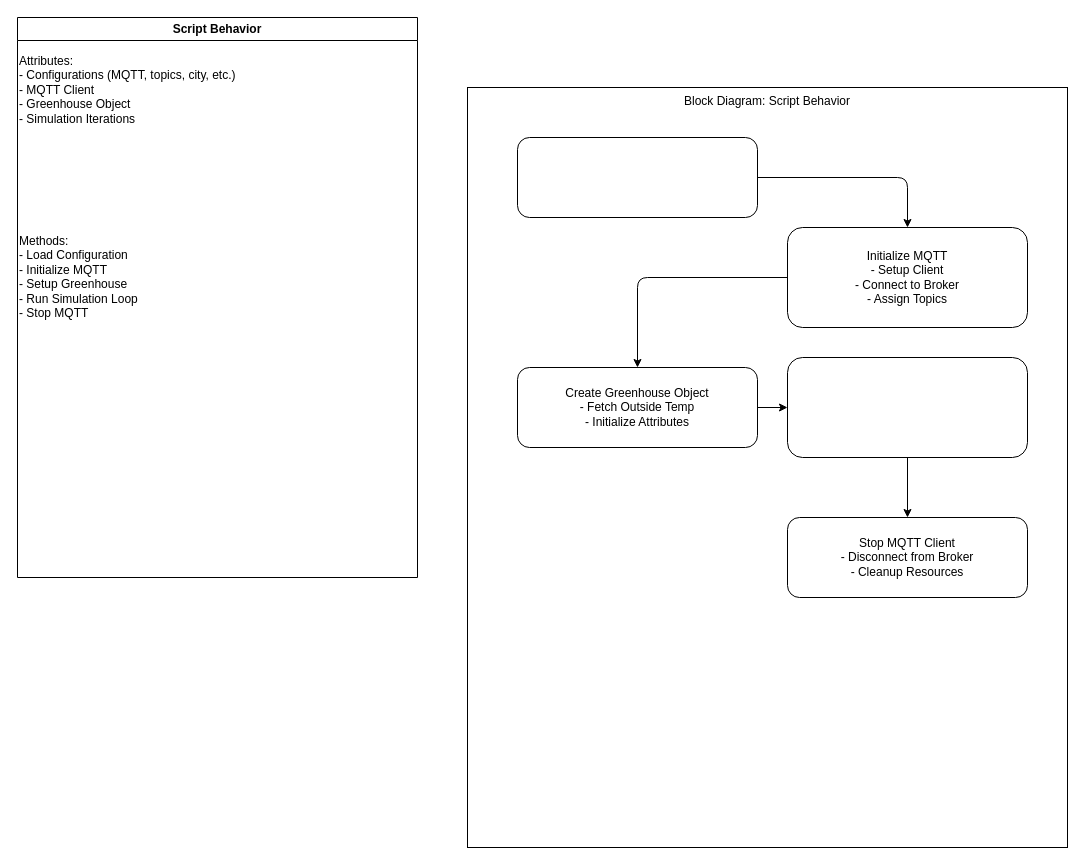
Some shapes in this 1085 by 865 pixel diagram are drawn without their labels. Here are the shapes that lost their labels. From the top down, the centre of each, then its label:
At pixel 637 177: "Load Configurations - Read YAML File - Parse Topics and City".
At pixel 907 407: "Simulation Loop - predict_system() - publish_digital_twin() - Sleep 1 second".
